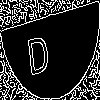D: (25, 24, 51, 76)
